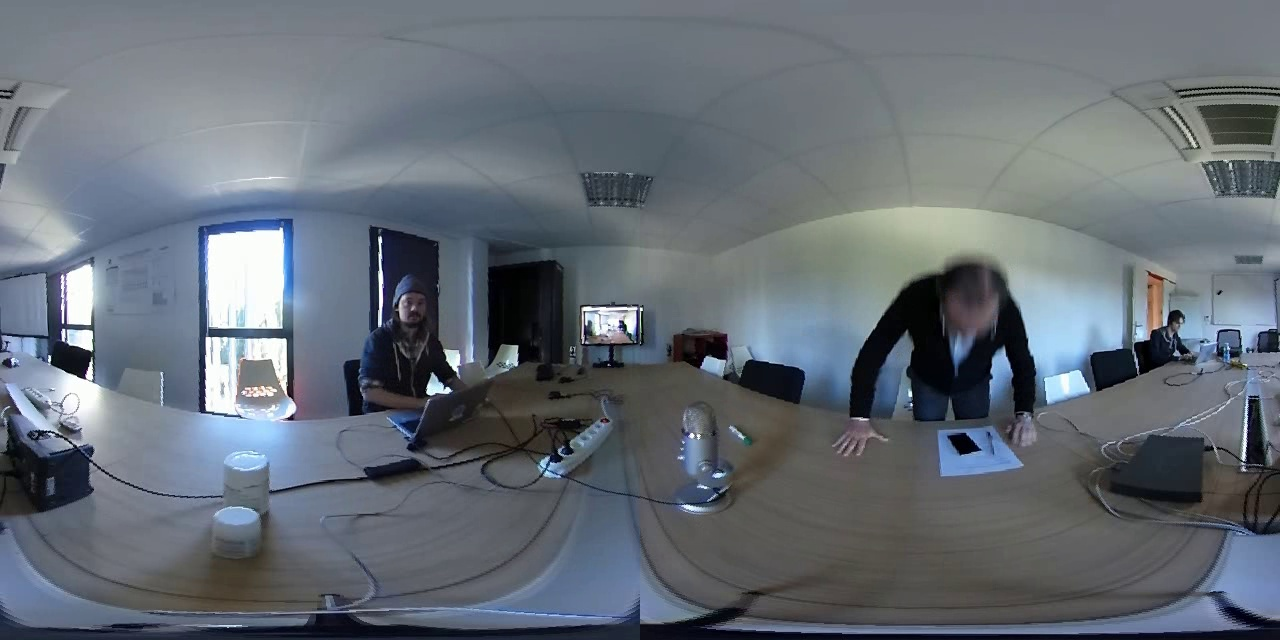person: (876, 243, 1023, 431), (347, 271, 467, 403), (1147, 304, 1197, 361)
